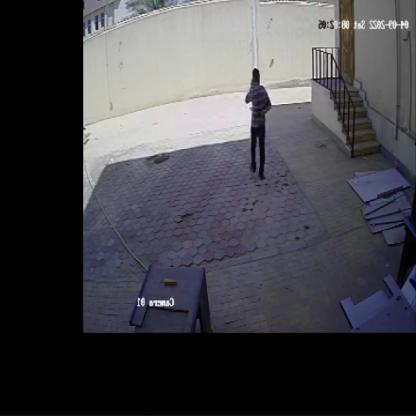handgun: (256, 96, 274, 117)
